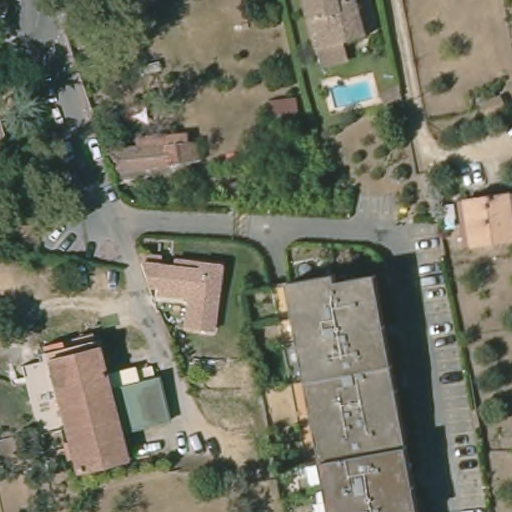pool: (323, 74, 378, 111)
